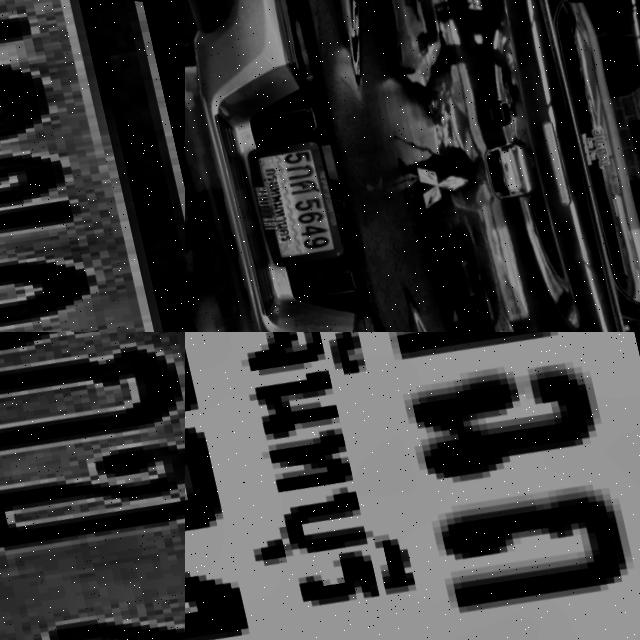license-plate: (185, 332, 640, 640), (0, 0, 185, 332), (0, 332, 185, 640), (245, 132, 344, 271)
